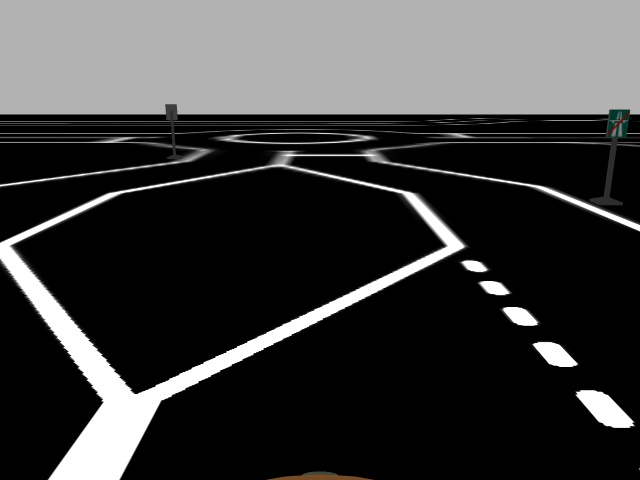leave_highway: (604, 109, 632, 140)
